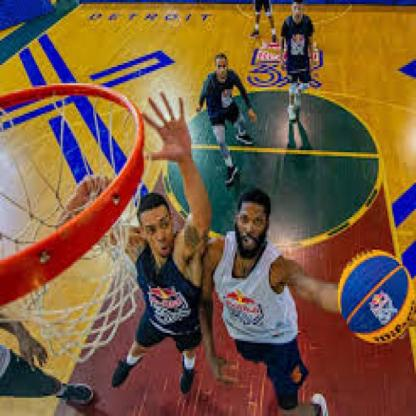basketball: (338, 248, 414, 345)
rim: (0, 81, 148, 306)
